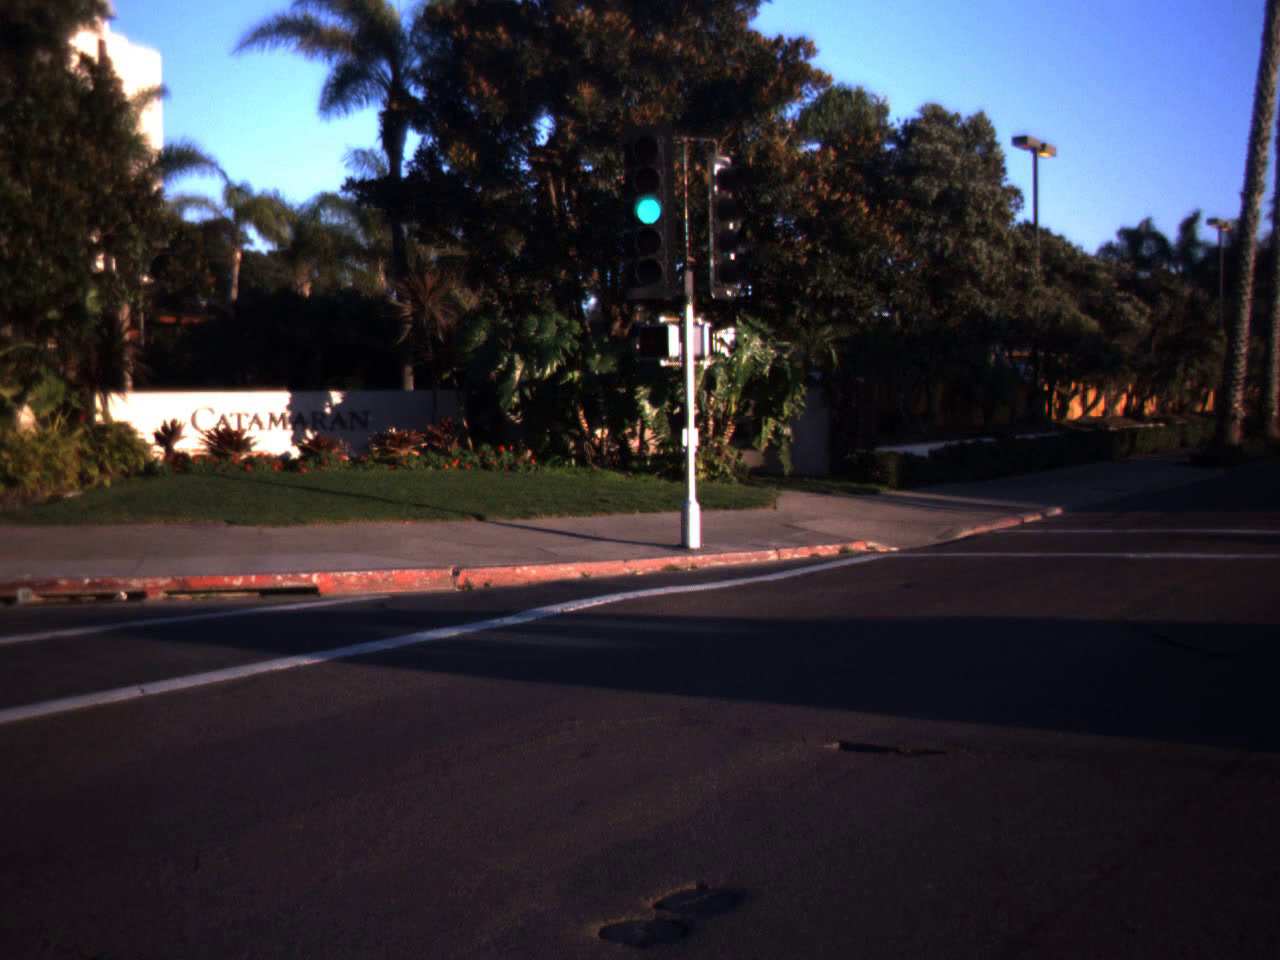go: (616, 119, 682, 234)
